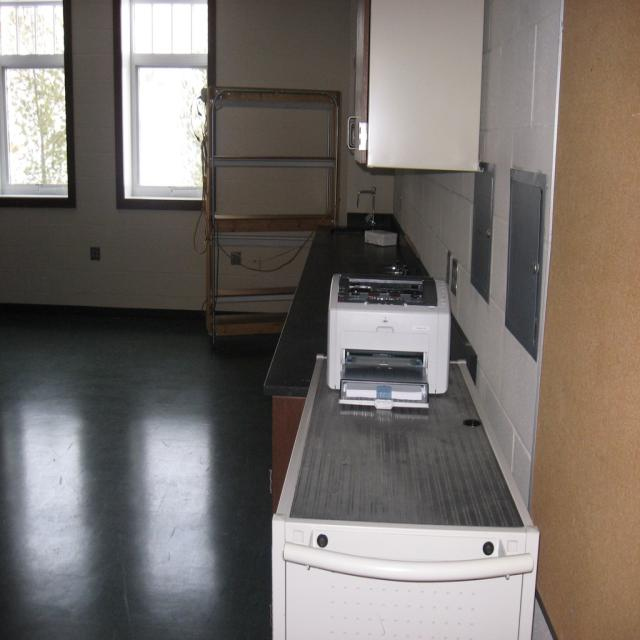printer: (318, 267, 458, 424)
